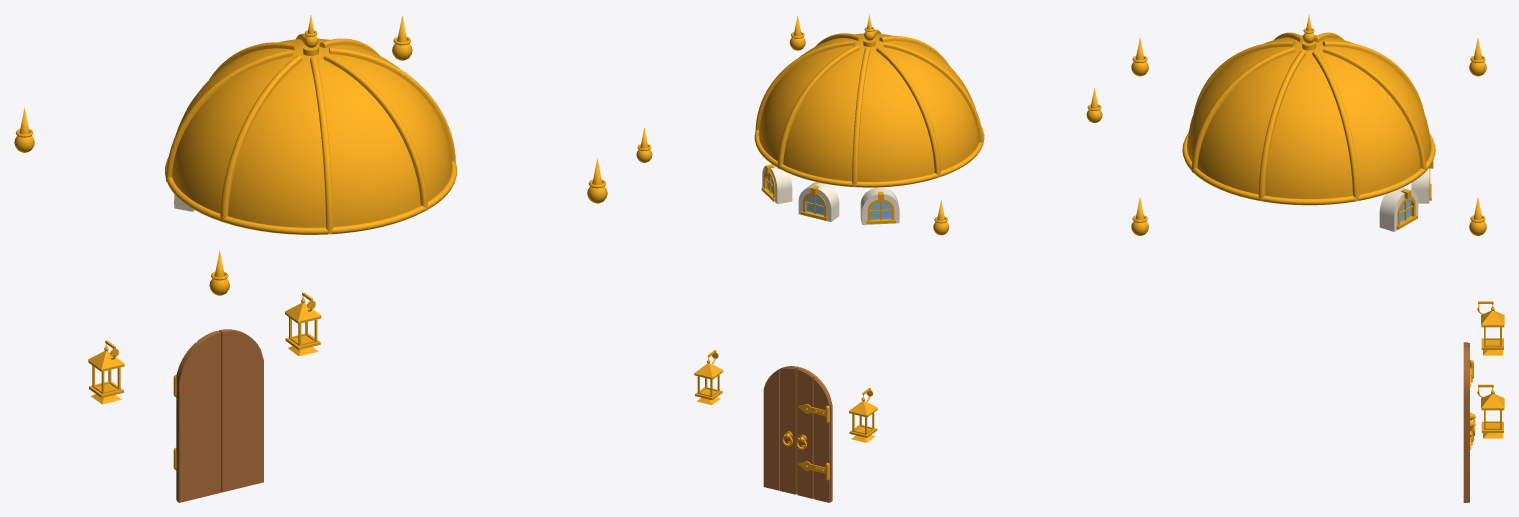
The model's file is HaloDomeHouse_08_ornaments.glb.
3 renders of one model, left to right at view 1: azimuth 30°, elevation 25°; view 2: azimuth 150°, elevation 25°; view 3: azimuth 270°, elevation 25°, orthographic. The views are drawn at different scales.
Parts seen in each view (by area): view 1: Orn_HaloDomeHouse_08_Dome, Orn_HaloDomeHouse_08_Dome_Ribs, Orn_HaloDomeHouse_08_Leaf0, Orn_HaloDomeHouse_08_Leaf1, Orn_HaloDomeHouse_08_Lantern0, Orn_HaloDomeHouse_08_Lantern1; view 2: Orn_HaloDomeHouse_08_Dome, Orn_HaloDomeHouse_08_Dome_Ribs, Orn_HaloDomeHouse_08_Leaf1, Orn_HaloDomeHouse_08_Leaf0, Orn_HaloDomeHouse_08_Lantern1, Orn_HaloDomeHouse_08_Lantern0, Orn_HaloDomeHouse_08_DrumWin1_Surround, Orn_HaloDomeHouse_08_DrumWin2_Surround, Orn_HaloDomeHouse_08_DrumWin0_Surround; view 3: Orn_HaloDomeHouse_08_Dome, Orn_HaloDomeHouse_08_Dome_Ribs, Orn_HaloDomeHouse_08_Leaf1, Orn_HaloDomeHouse_08_Lantern1, Orn_HaloDomeHouse_08_Lantern0, Orn_HaloDomeHouse_08_DrumWin0_Surround, Orn_HaloDomeHouse_08_DrumWin0_Frame, Orn_HaloDomeHouse_08_DrumWin1_Surround.
Part boxes in pixels (x1=…): Orn_HaloDomeHouse_08_Dome: x1=165, y1=15, x2=456, y2=234; Orn_HaloDomeHouse_08_Dome_Ribs: x1=166, y1=33, x2=455, y2=234; Orn_HaloDomeHouse_08_Leaf0: x1=176, y1=330, x2=221, y2=502; Orn_HaloDomeHouse_08_Leaf1: x1=219, y1=329, x2=263, y2=492; Orn_HaloDomeHouse_08_Lantern0: x1=88, y1=340, x2=124, y2=404; Orn_HaloDomeHouse_08_Lantern1: x1=285, y1=292, x2=321, y2=356; Orn_HaloDomeHouse_08_Dome: x1=754, y1=14, x2=984, y2=187; Orn_HaloDomeHouse_08_Dome_Ribs: x1=755, y1=29, x2=983, y2=186; Orn_HaloDomeHouse_08_Leaf1: x1=763, y1=366, x2=798, y2=494; Orn_HaloDomeHouse_08_Leaf0: x1=797, y1=367, x2=832, y2=502; Orn_HaloDomeHouse_08_Lantern1: x1=694, y1=350, x2=722, y2=405; Orn_HaloDomeHouse_08_Lantern0: x1=849, y1=388, x2=877, y2=442; Orn_HaloDomeHouse_08_DrumWin1_Surround: x1=798, y1=182, x2=839, y2=221; Orn_HaloDomeHouse_08_DrumWin2_Surround: x1=860, y1=187, x2=899, y2=224; Orn_HaloDomeHouse_08_DrumWin0_Surround: x1=762, y1=165, x2=792, y2=204; Orn_HaloDomeHouse_08_Dome: x1=1182, y1=15, x2=1435, y2=205; Orn_HaloDomeHouse_08_Dome_Ribs: x1=1191, y1=32, x2=1426, y2=201; Orn_HaloDomeHouse_08_Leaf1: x1=1463, y1=346, x2=1469, y2=502; Orn_HaloDomeHouse_08_Lantern1: x1=1477, y1=384, x2=1504, y2=438; Orn_HaloDomeHouse_08_Lantern0: x1=1477, y1=301, x2=1504, y2=355; Orn_HaloDomeHouse_08_DrumWin0_Surround: x1=1379, y1=187, x2=1418, y2=231; Orn_HaloDomeHouse_08_DrumWin0_Frame: x1=1396, y1=189, x2=1417, y2=229; Orn_HaloDomeHouse_08_DrumWin1_Surround: x1=1411, y1=168, x2=1429, y2=203.
Size of the model in its own units: 19.9 by 26.15 by 18.8.
